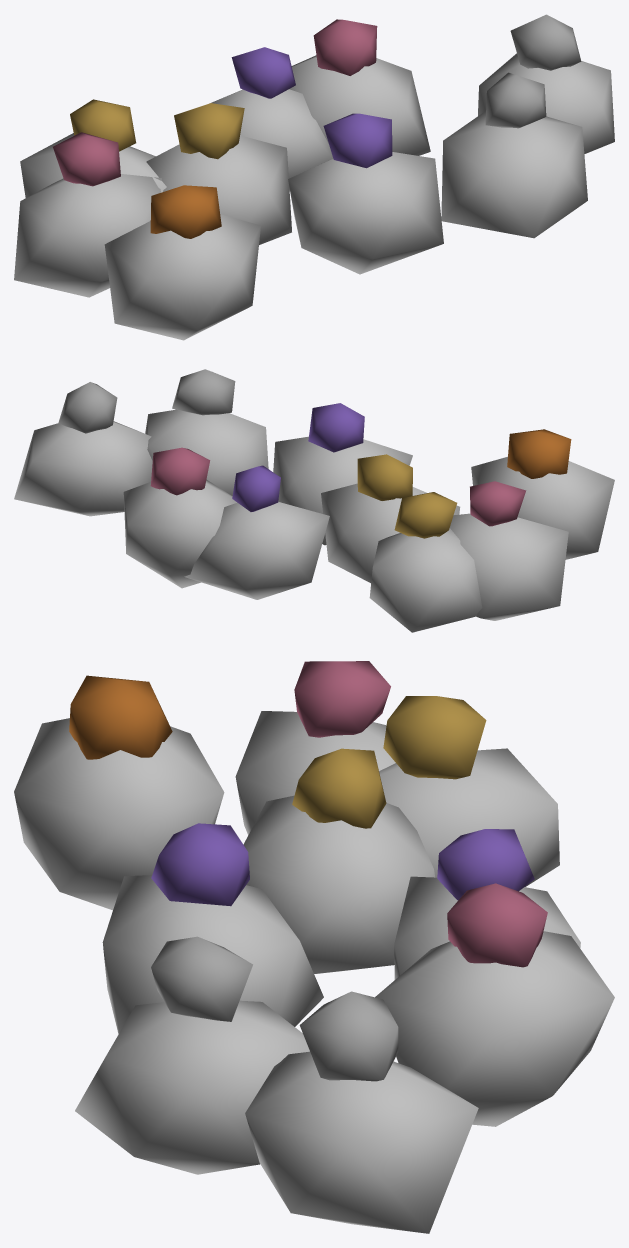
File: flowers.glb
3 renders of one model, top to bottom at view 1: azimuth 30°, elevation 25°; view 2: azimuth 150°, elevation 25°; view 3: azimuth 270°, elevation 25°, orthographic. The views are drawn at different scales.
Visible parts, largest first — view 1: flowers; view 2: flowers; view 3: flowers.
Boxes of the visible parts, left/top/right/bottom form: flowers: left=14, top=14, right=614, bottom=340; flowers: left=14, top=369, right=614, bottom=632; flowers: left=14, top=661, right=614, bottom=1233.
Size of the model in its own units: 1.31 by 0.3478 by 0.7577.
